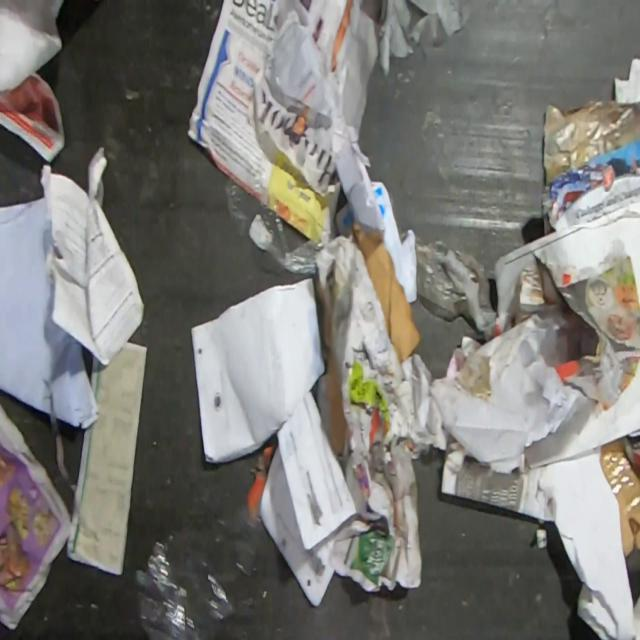cardboard: (350, 221, 425, 364), (599, 436, 640, 560)
soft_plastic: (134, 503, 278, 639), (223, 167, 337, 277), (415, 235, 499, 341)
